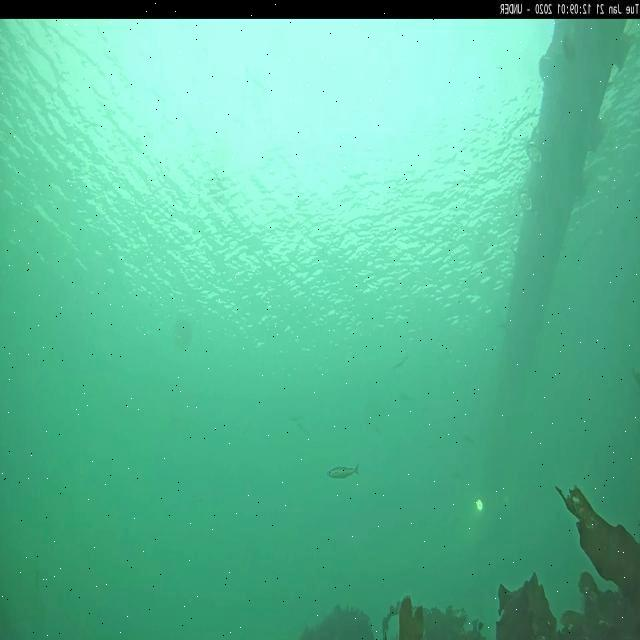fish: (326, 464, 360, 479)
